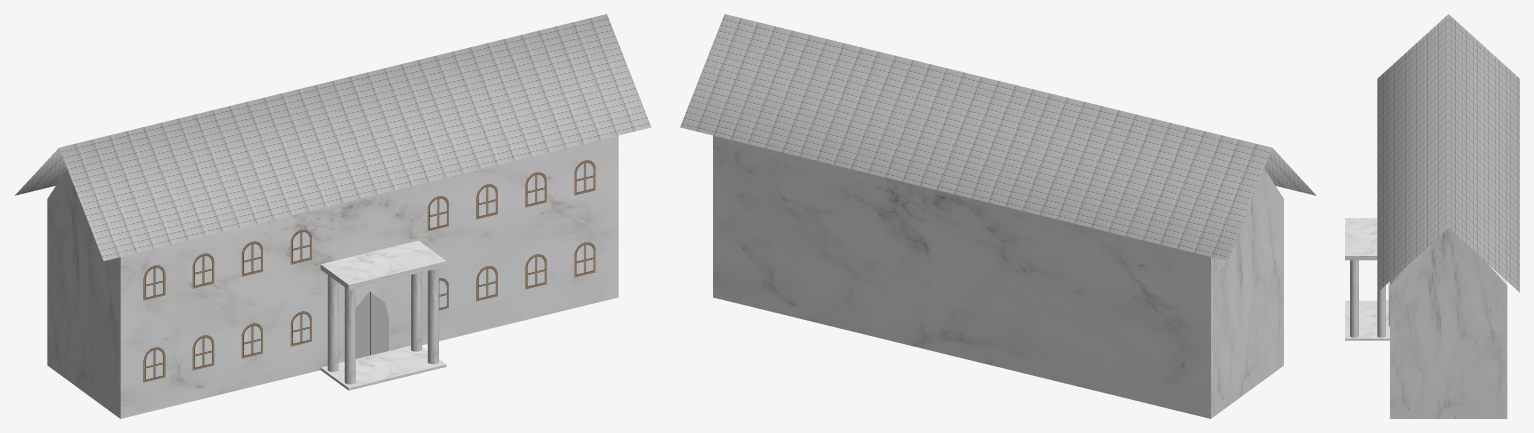
Rendered from Building_Mansion.fbx.
3 views of the same model, side by side, from view 1: azimuth 30°, elevation 25°; view 2: azimuth 150°, elevation 25°; view 3: azimuth 270°, elevation 25° (orthographic). The views are drawn at different scales.
Parts seen in each view (by area): view 1: Building_Mansion, Window; view 2: Building_Mansion; view 3: Building_Mansion.
Boxes of the visible parts, bbox=[...] form: Building_Mansion: bbox=[15, 14, 651, 418]; Window: bbox=[143, 160, 595, 382]; Building_Mansion: bbox=[680, 14, 1316, 418]; Building_Mansion: bbox=[1345, 14, 1519, 418].
Size of the model in its own units: 229 by 99.91 by 78.95.
